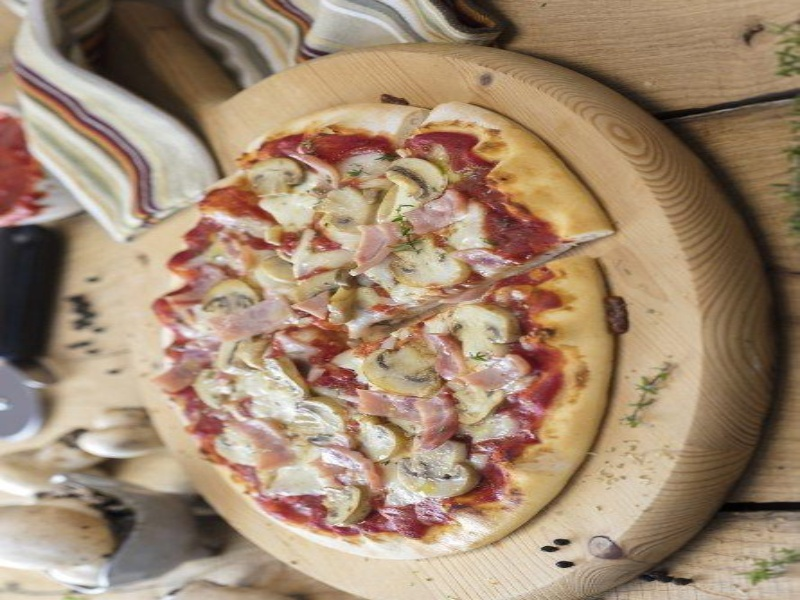champignon: (390, 437, 480, 504), (440, 297, 526, 363), (355, 337, 443, 400), (387, 242, 474, 295), (386, 154, 460, 204)
